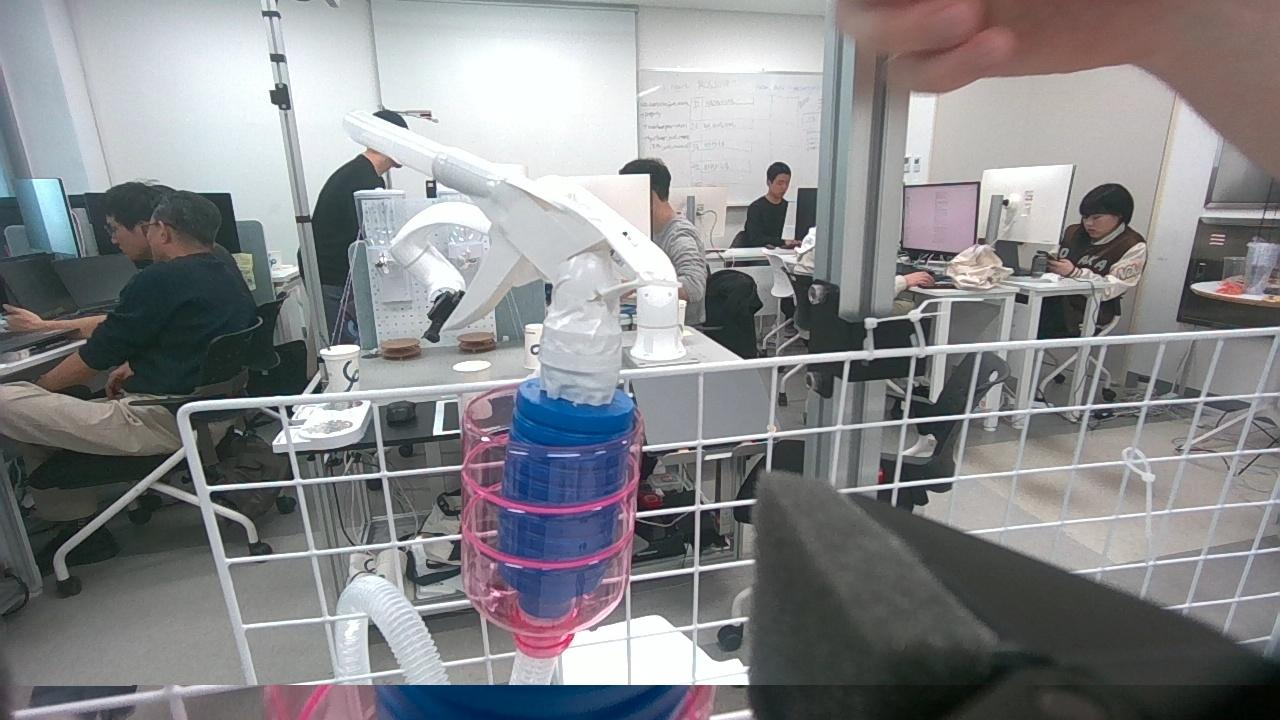Nozzle: (425, 137, 670, 599)
